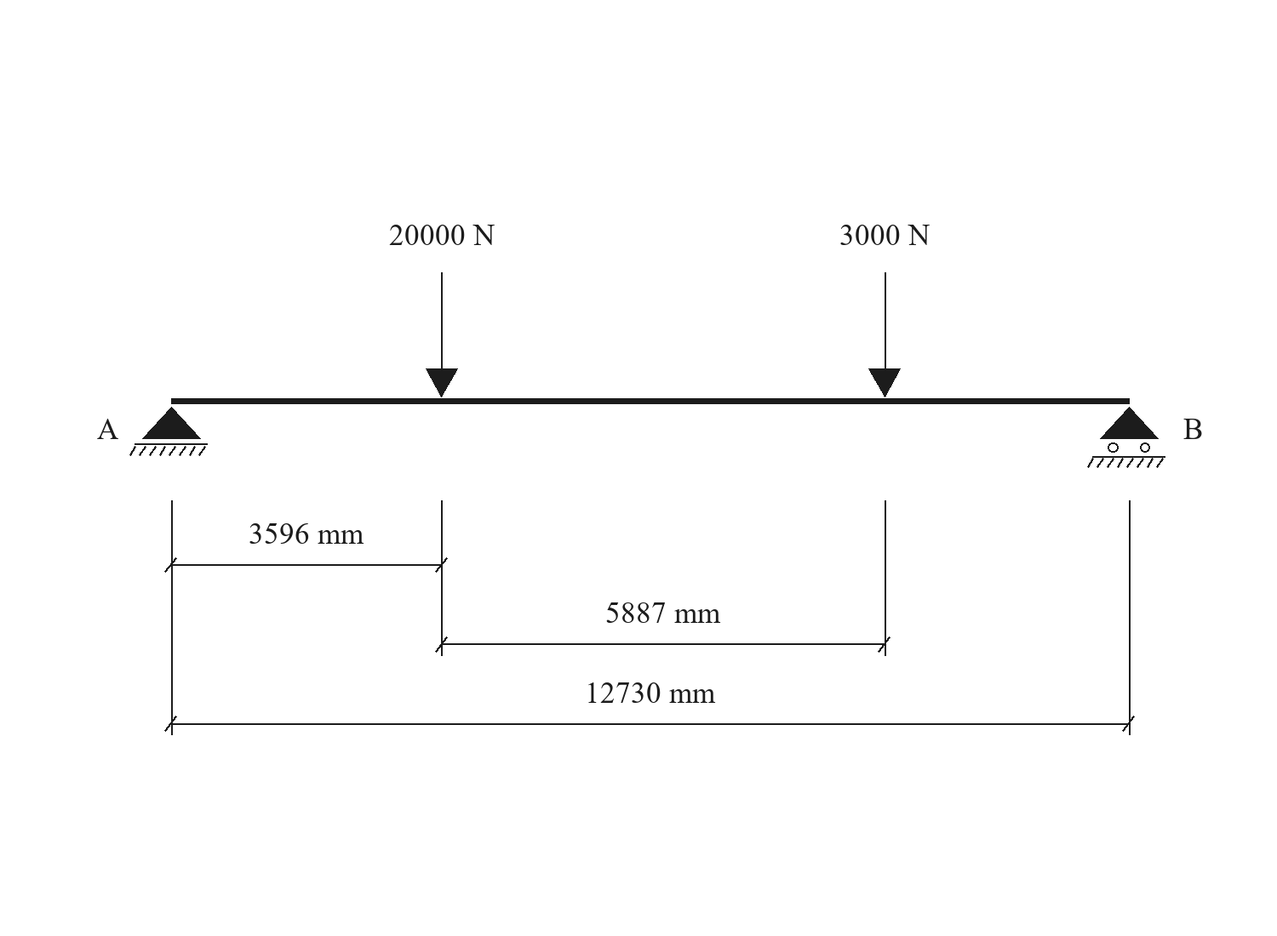pin_support: (129, 407, 208, 456)
point_load: (868, 272, 901, 397), (426, 272, 458, 397)
roller_support: (1087, 407, 1165, 468)
